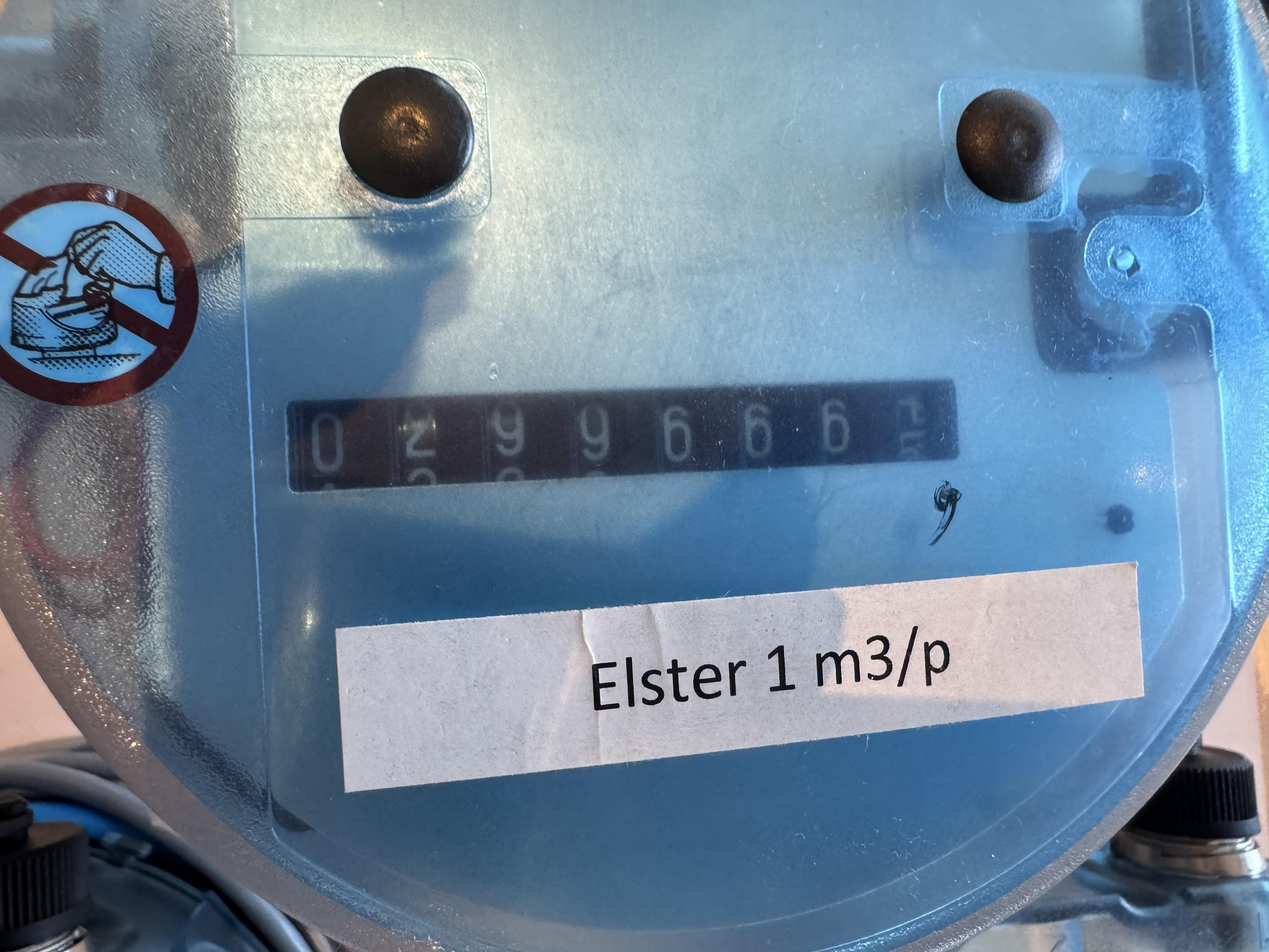analog_dial: (279, 369, 971, 552)
